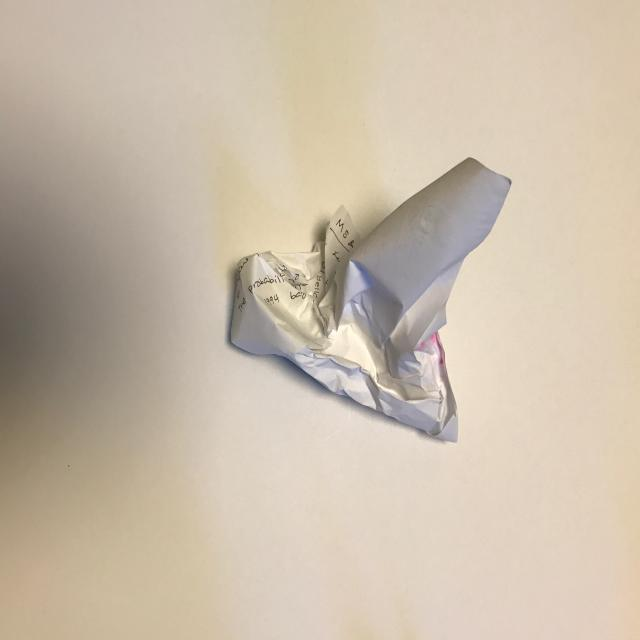paper: (224, 156, 514, 448)
